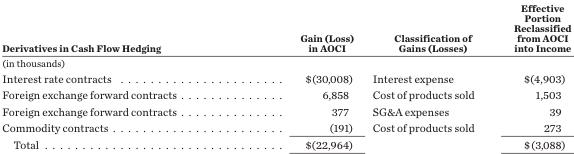table: (1, 0, 570, 151)
table column: (1, 0, 237, 151), (362, 0, 493, 151), (237, 0, 362, 151), (493, 0, 570, 151)
table column header: (1, 0, 570, 69)
table row: (1, 0, 570, 69), (1, 69, 570, 86), (1, 102, 570, 119), (1, 86, 570, 102), (1, 119, 570, 135), (1, 135, 570, 151)
